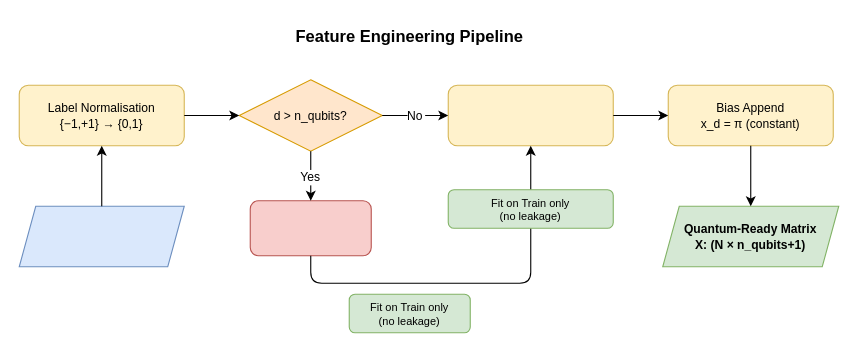
This 858x352 diagram has some shape labels left out. The centre of each missing label's shape, as x and y in pixels:
Min-Max Scaling features → [0, π]: point (530, 115)
PCA d → n_qubits: point (310, 228)
Raw CSV Files X: (N × d) Y: (N,): point (101, 236)
